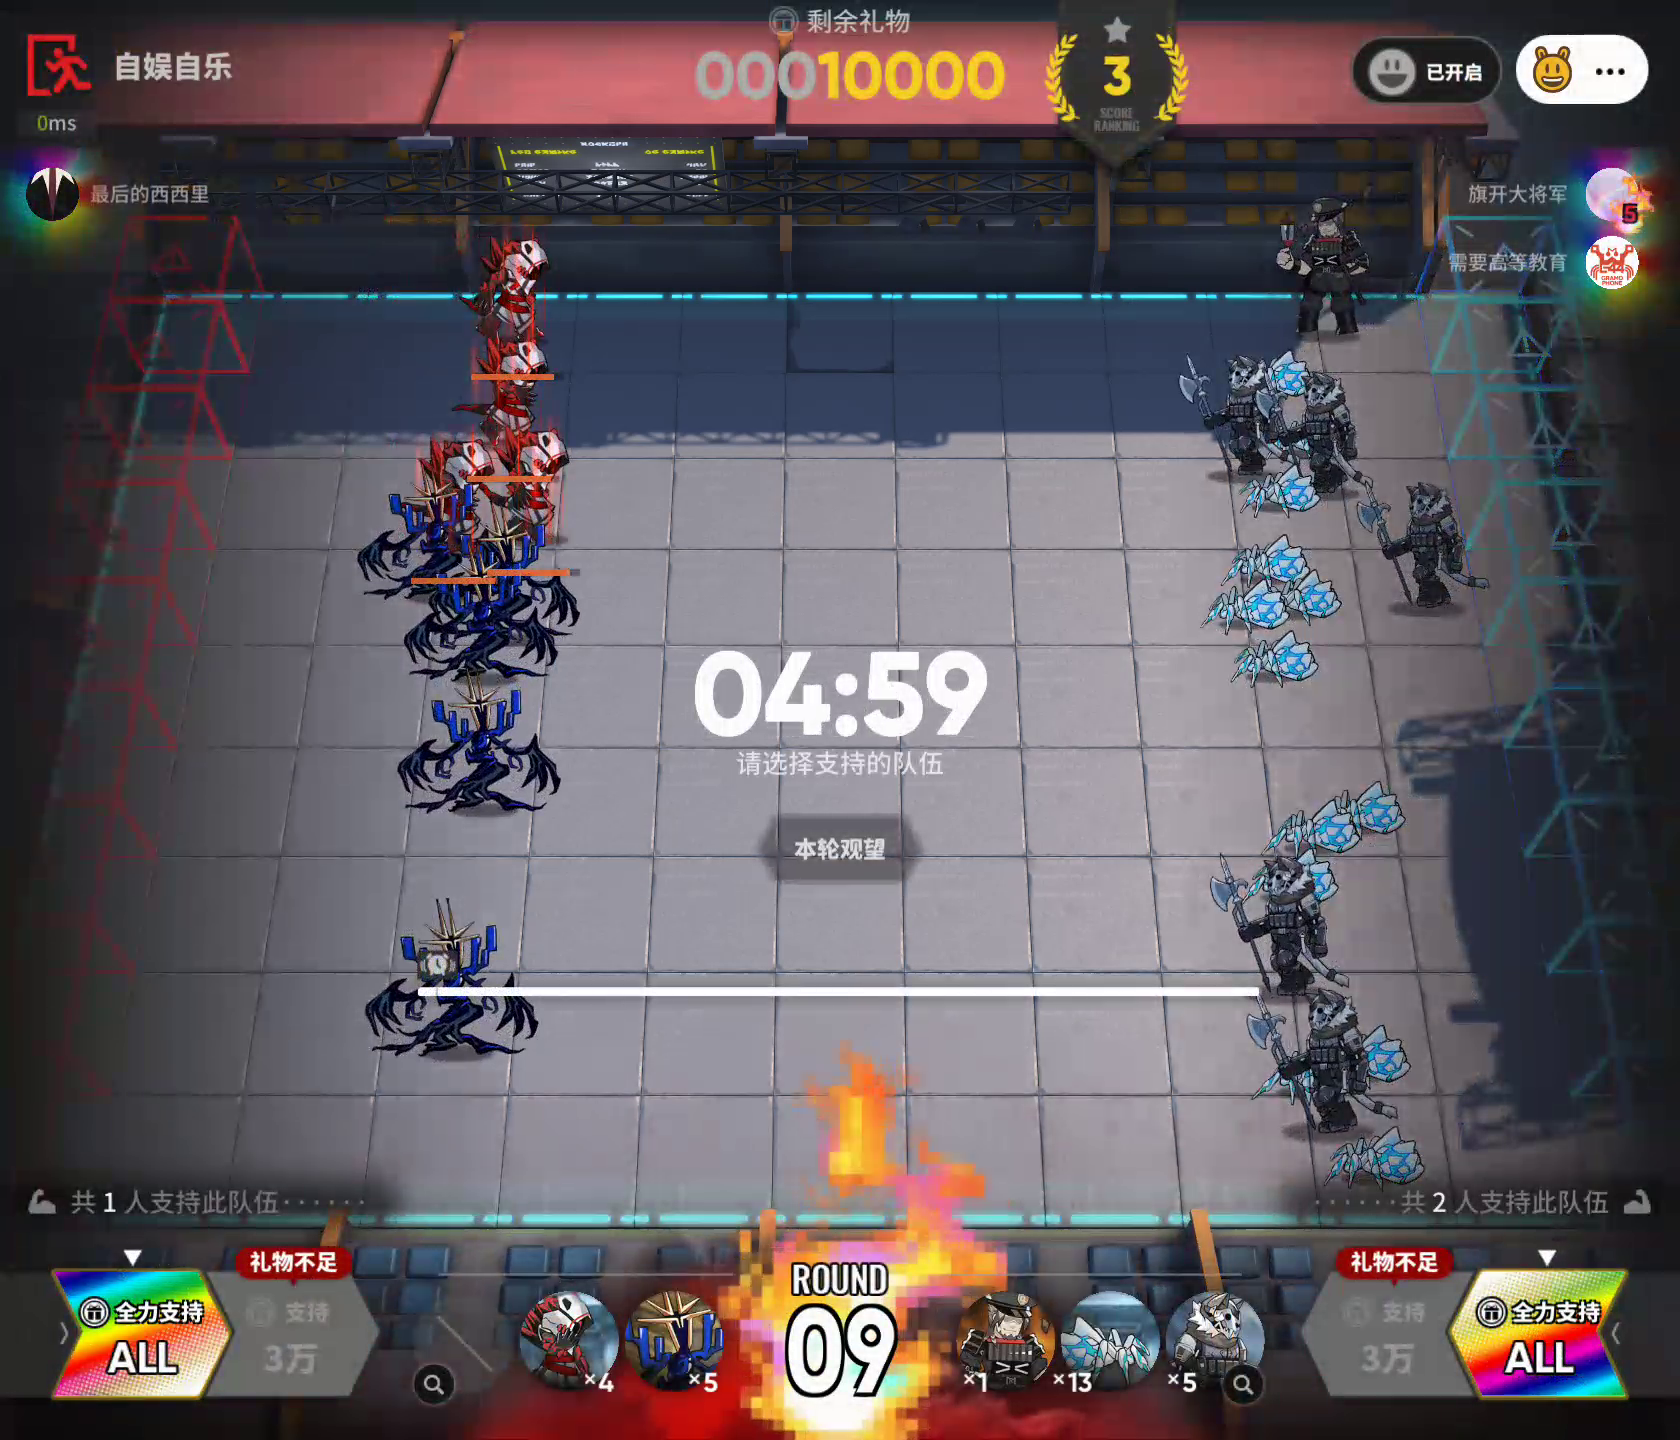杰斯顿·威廉姆斯: (1271, 186, 1389, 349), (949, 1283, 1054, 1393)
狂躁珊瑚: (359, 893, 543, 1064), (391, 679, 570, 824), (351, 464, 496, 606), (397, 564, 549, 686), (466, 517, 596, 633), (623, 1280, 731, 1393)
自爆冰虫: (1060, 1290, 1164, 1393), (1266, 789, 1361, 861), (1214, 521, 1311, 591), (1323, 1121, 1427, 1183), (1243, 849, 1344, 911), (1320, 771, 1410, 841), (1336, 1026, 1431, 1083), (1229, 627, 1316, 689), (1201, 579, 1289, 634), (1239, 466, 1321, 519), (1259, 1049, 1333, 1101), (1281, 567, 1339, 631), (1253, 349, 1319, 399), (1269, 416, 1319, 459)
苦难的具象: (404, 421, 499, 556), (487, 426, 584, 556), (509, 1284, 621, 1393), (461, 226, 559, 346), (457, 331, 551, 441)
雪境精锐: (1240, 979, 1380, 1141), (1353, 474, 1499, 624), (1214, 849, 1354, 1003), (1171, 349, 1297, 481), (1259, 364, 1371, 497), (1167, 1286, 1269, 1391)
